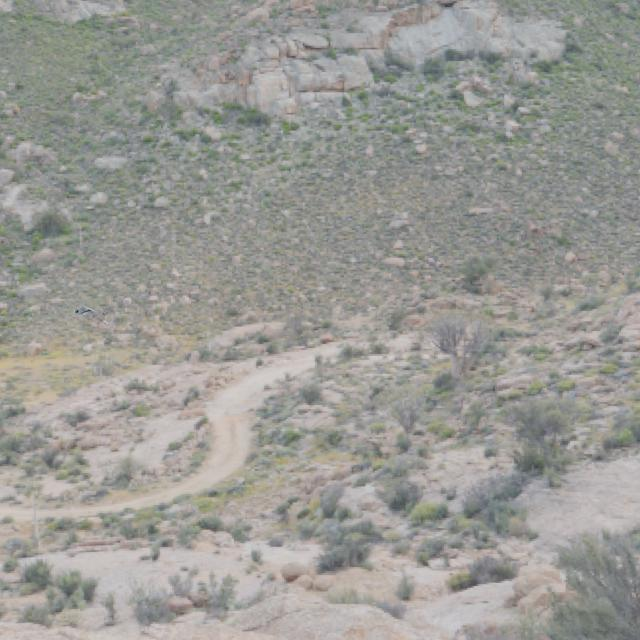Airaplan: (66, 303, 114, 329)
